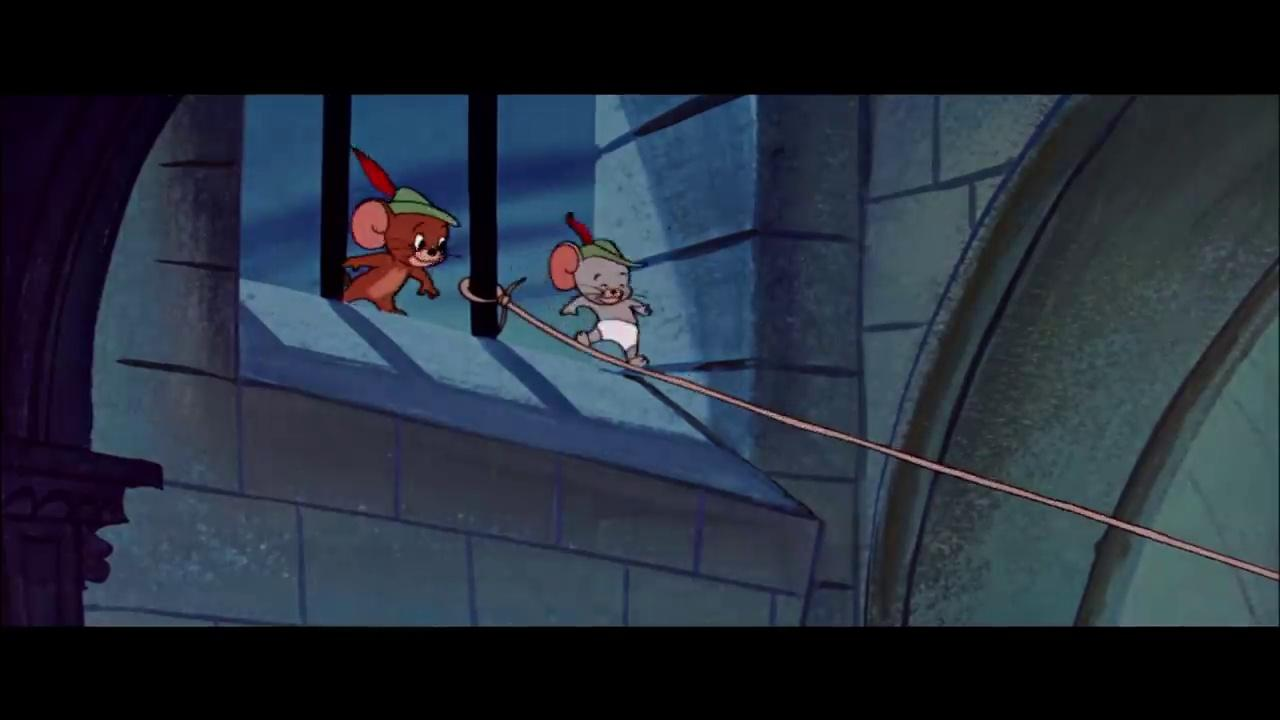Jerry: (344, 195, 463, 312)
